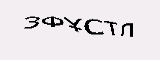Д: (37, 22, 53, 39)
Ж: (72, 22, 90, 37)
К: (55, 22, 71, 35)
Л: (110, 19, 129, 38)
Н: (94, 15, 111, 37)
